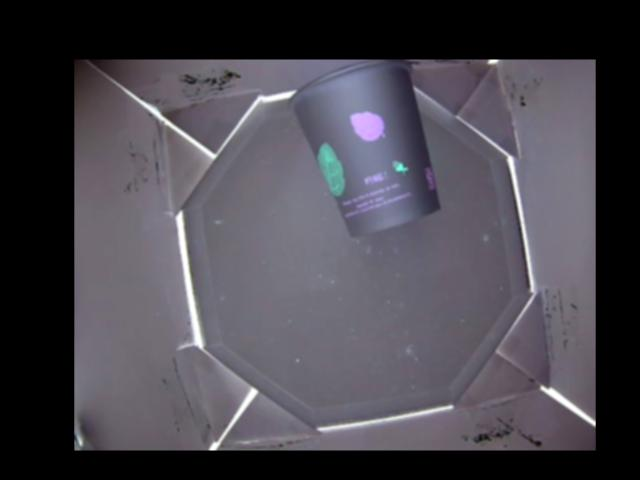Cup: (293, 60, 440, 239)
